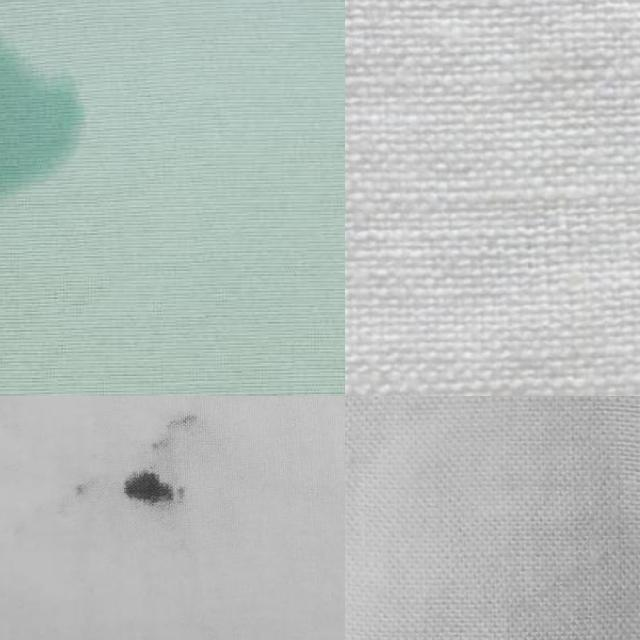Thread_other: (58, 407, 228, 536), (0, 6, 92, 220)
